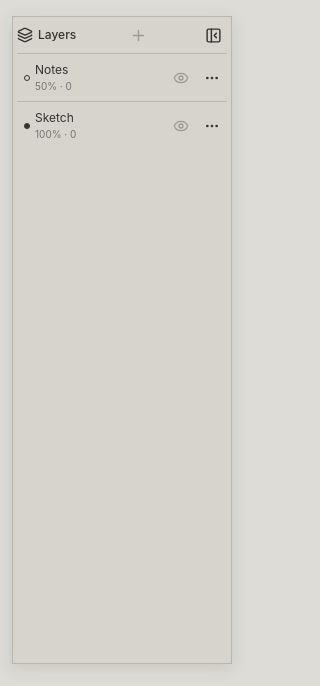
it: compact layers › disables mutations on a locked Paper
Click the button named "Layer options: Sketch": point(212, 126) [199,112,225,140]
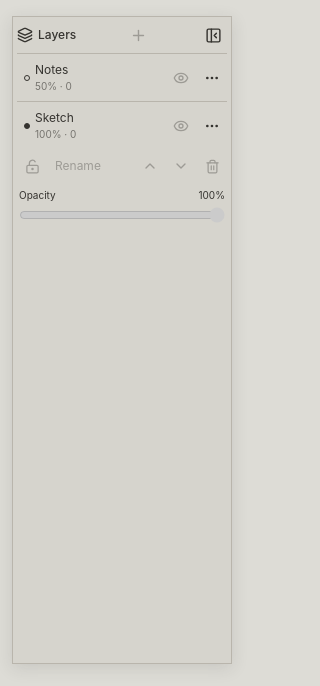
Expected: the button named "New layer" is disabled, [125,21,152,49]
Expected: the button named "Lock layer" is disabled, [19,152,45,180]
Expected: the slider is disabled, [19,207,225,223]
